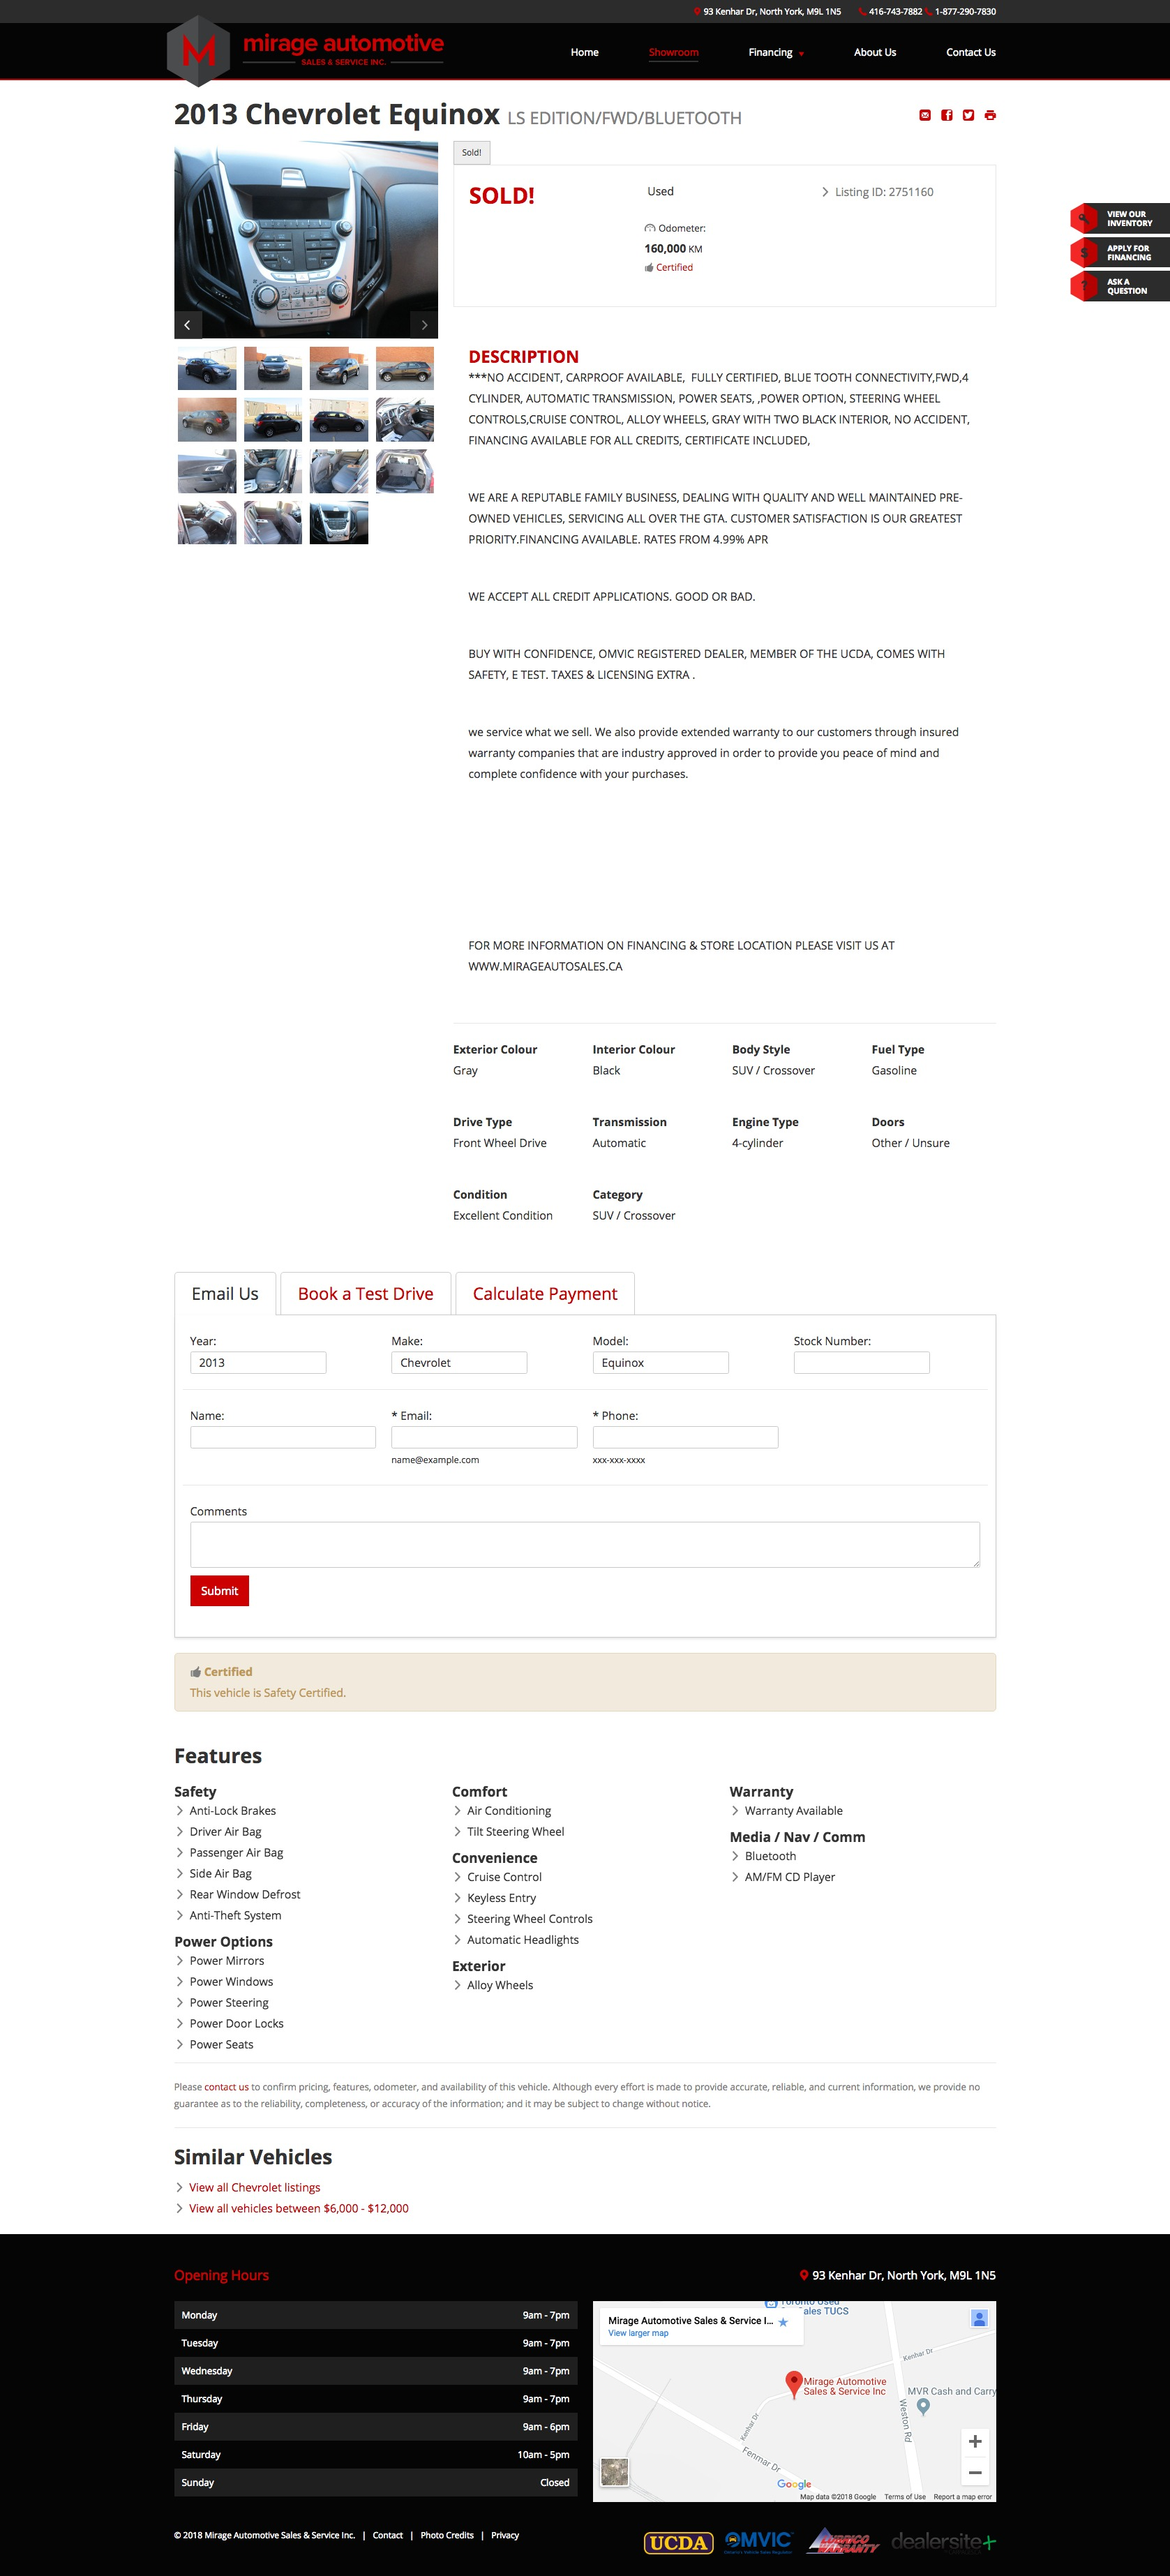car: (411, 315, 439, 340)
